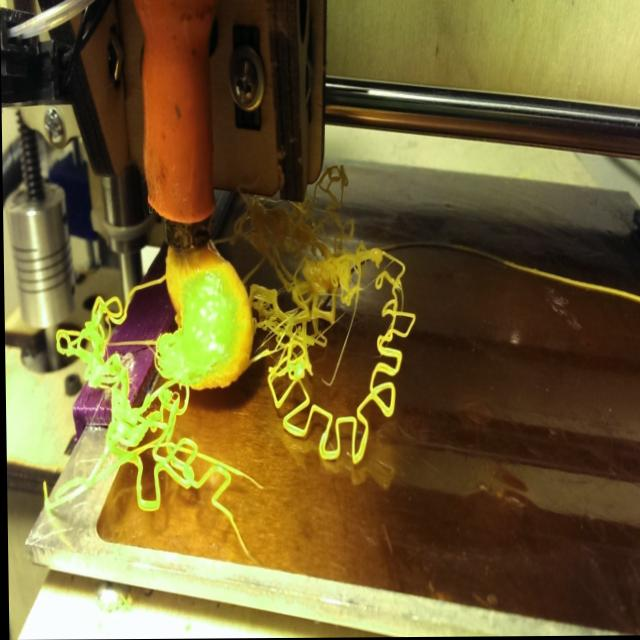spaghetti: (44, 219, 435, 566)
